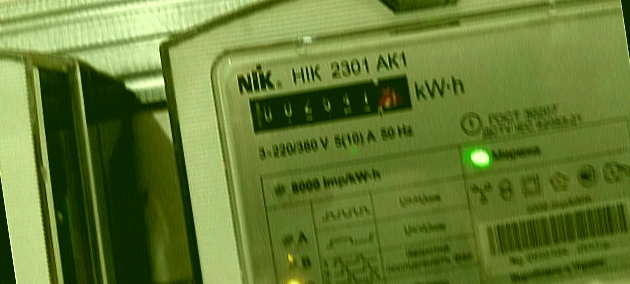0: (257, 100, 273, 123), (278, 95, 293, 118)
1: (356, 85, 370, 106)
2: (298, 93, 312, 115)
4: (337, 86, 352, 109)
5: (316, 89, 331, 113)
6: (380, 93, 393, 110)
screen: (235, 63, 423, 143)
